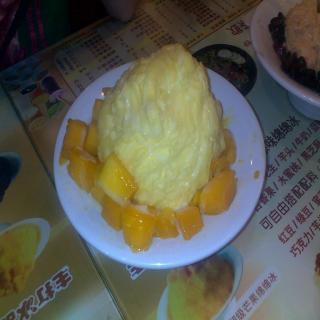Mango: (59, 99, 237, 252), (97, 154, 137, 206)
